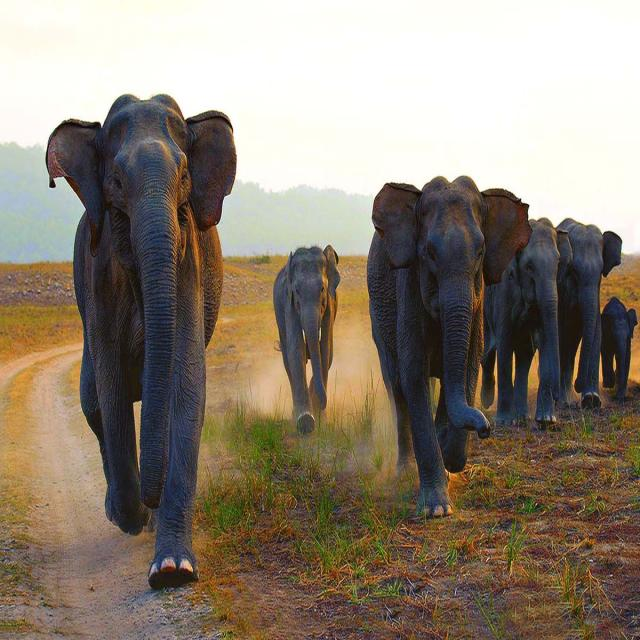Elephant: (42, 71, 232, 588), (374, 147, 523, 502), (271, 237, 341, 460), (510, 207, 568, 431), (551, 196, 607, 408), (593, 298, 640, 402)
